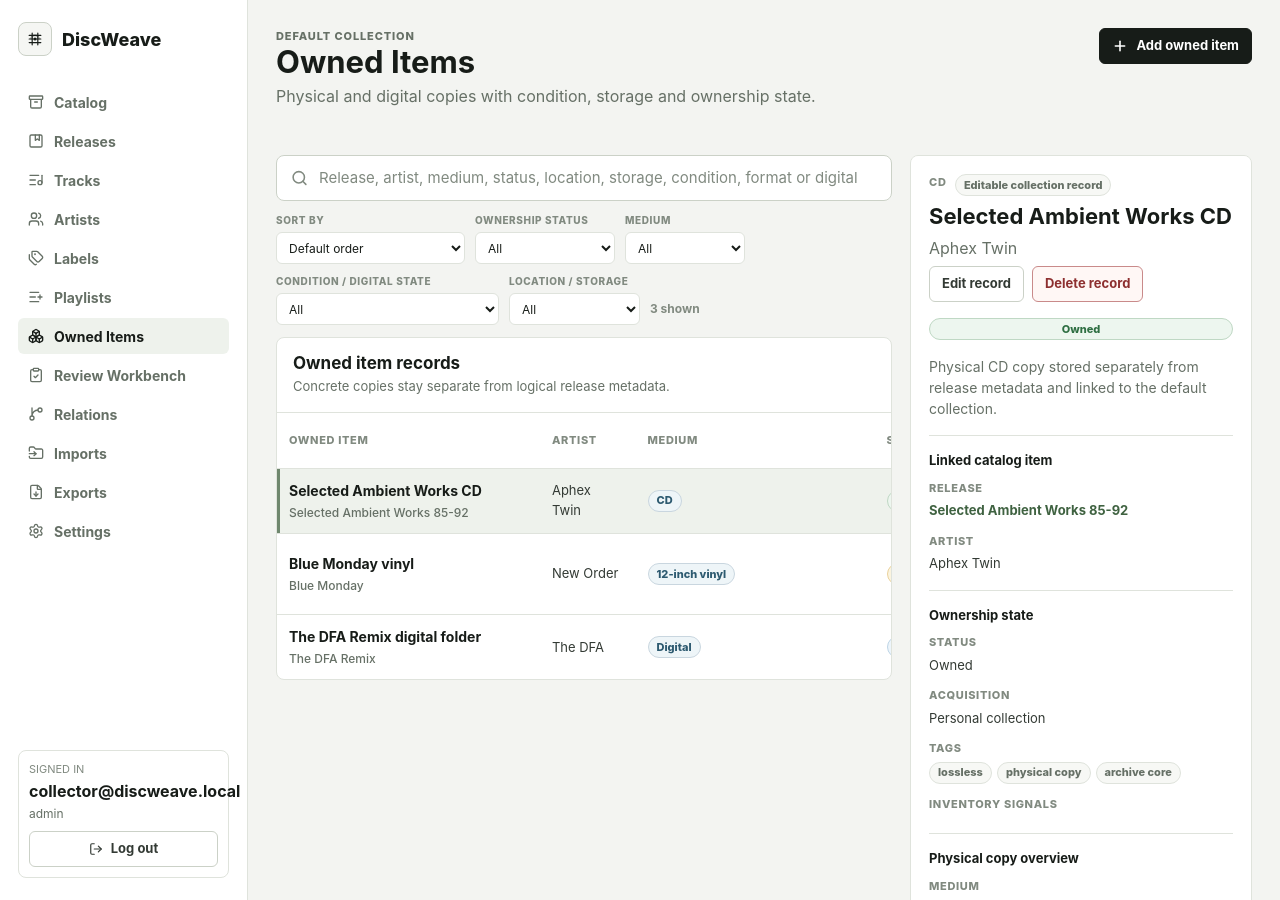
Test: App owned item and relation workspaces › filters owned items by release, artist, medium, status, storage, condition and file format
The width and height of the screenshot is (1280, 900).
Type "new order vinyl shelf a3 needs digitization" into the search field named "Search owned items". click: (584, 178)
box: [276,155,892,201]
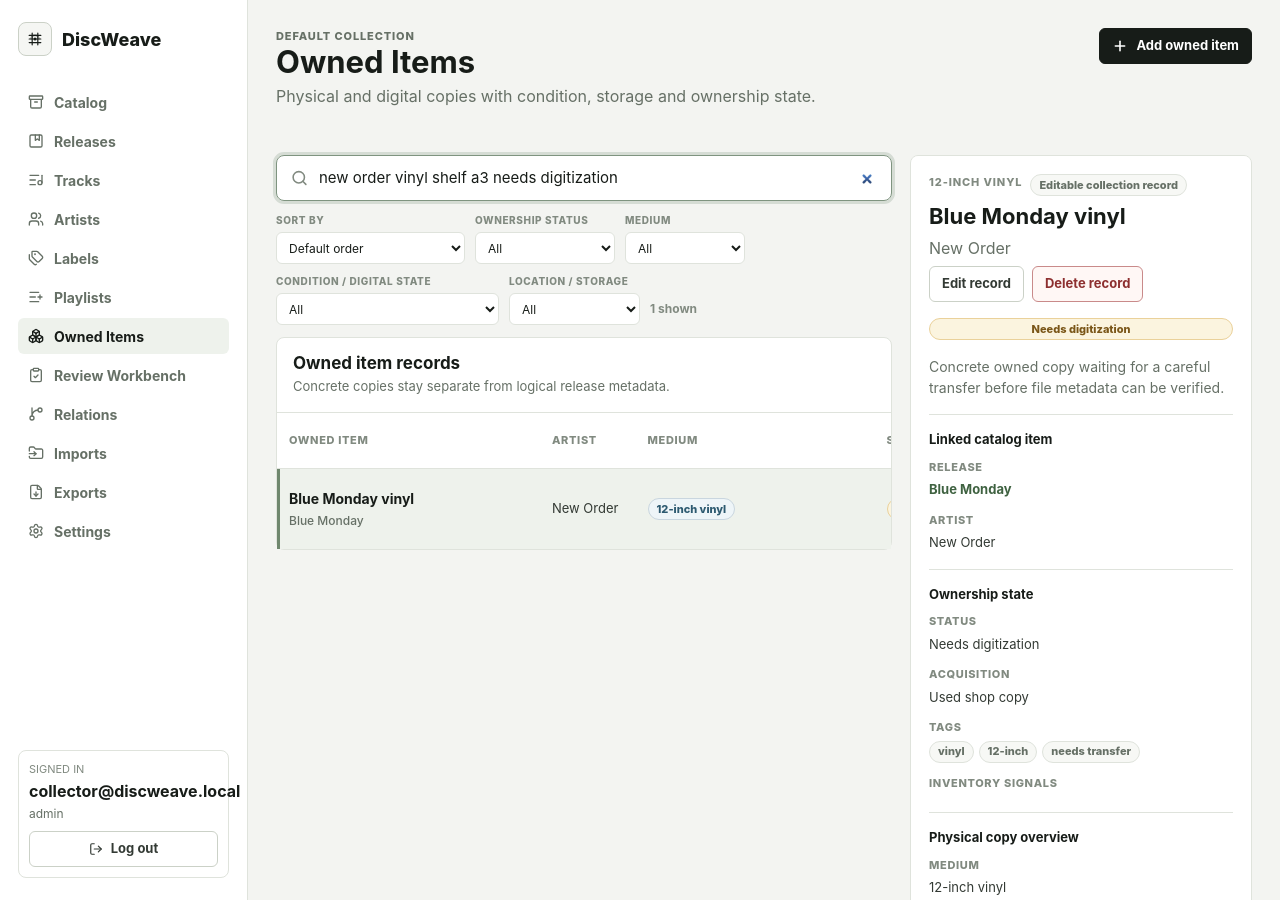
Expected: the row "Blue Monday vinyl" is shown, [277,468,891,550]
Now the button "Selected Ambient Works CD" is gone
